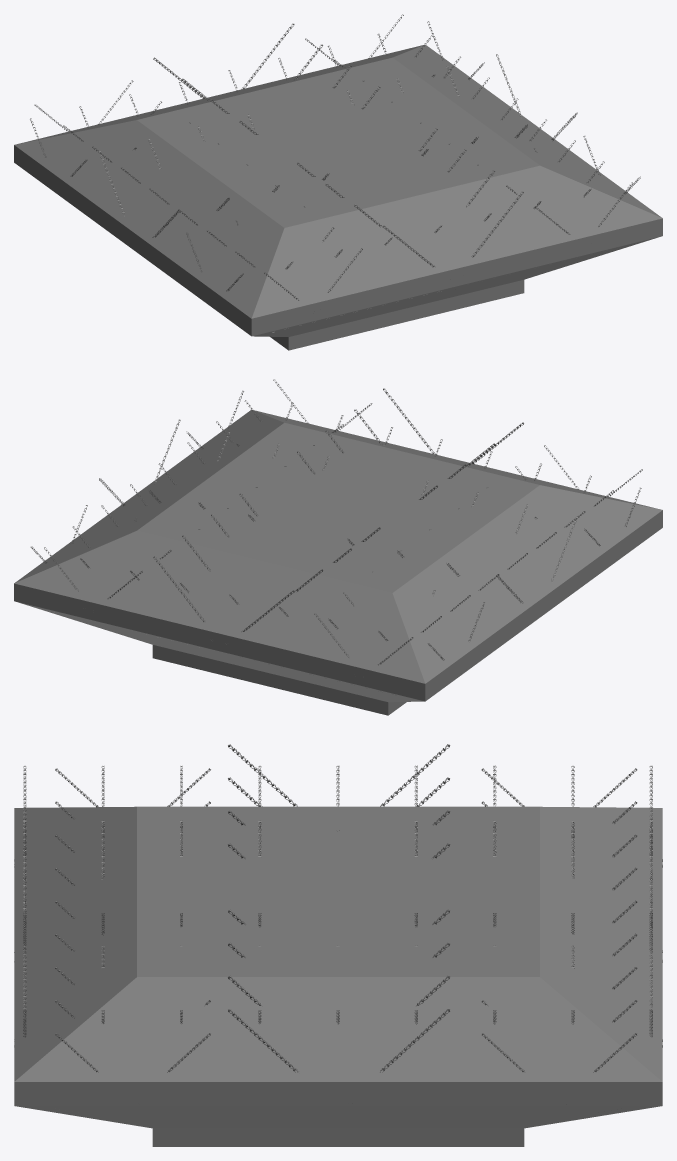
The model's file is ring08.FBX.
The picture shows the model from 3 angles, top to bottom: view 1: azimuth 30°, elevation 25°; view 2: azimuth 150°, elevation 25°; view 3: azimuth 270°, elevation 25°; orthographic projection. The views are drawn at different scales.
Visible parts, largest first — view 1: Plane13; view 2: Plane13; view 3: Plane13.
Boxes of the visible parts, box(x1,y1,x2,y2) form: Plane13: box(14, 44, 662, 350); Plane13: box(14, 409, 662, 715); Plane13: box(14, 806, 662, 1146).
Size of the model in its own units: 2362 by 2362 by 808.
